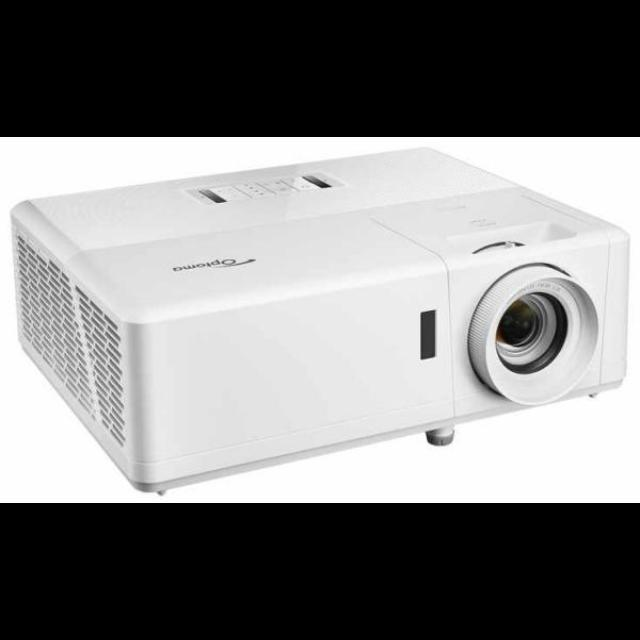Projector: (6, 138, 640, 500)
